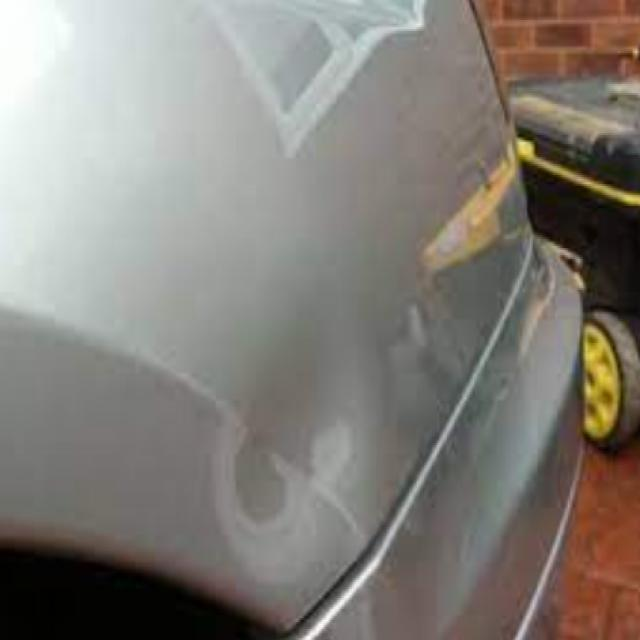dents: (206, 392, 384, 578)
